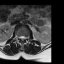CCS_normal: (21, 34, 23, 42)
LFS_normal: (25, 35, 27, 40)
LLS_normal: (23, 35, 25, 40)
RFS_normal: (17, 34, 19, 40)
RLS_normal: (19, 34, 21, 40)
